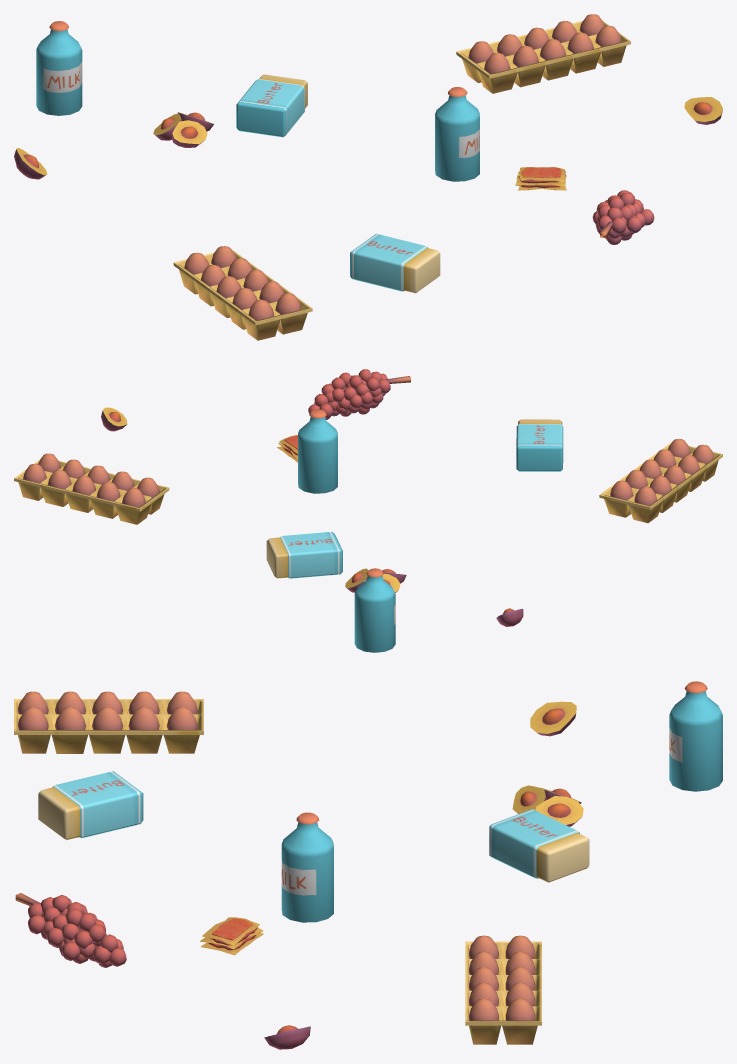
3 views of the same model, one above another, from view 1: azimuth 30°, elevation 25°; view 2: azimuth 150°, elevation 25°; view 3: azimuth 270°, elevation 25° (orthographic). The views are drawn at different scales.
Visible parts, largest first — view 1: Eggs2, Eggs 1, Butter2, polySurface6, polySurface7, Butter 1, Grapes, Lasagna, Avocado, Avocado4, Avocado2; view 2: Eggs2, Eggs 1, Butter 1, polySurface6, polySurface7, Grapes, Butter2, Avocado; view 3: Eggs 1, Eggs2, Butter2, Butter 1, polySurface6, polySurface7, Grapes, Lasagna, Avocado2, Avocado5, Avocado, Avocado4.
Boxes of the visible parts, x1=… form: Eggs2: x1=456, y1=14, x2=630, y2=93; Eggs 1: x1=173, y1=246, x2=312, y2=340; Butter2: x1=350, y1=233, x2=440, y2=293; polySurface6: x1=36, y1=21, x2=82, y2=115; polySurface7: x1=435, y1=87, x2=479, y2=181; Butter 1: x1=236, y1=74, x2=307, y2=137; Grapes: x1=592, y1=190, x2=654, y2=244; Lasagna: x1=515, y1=167, x2=566, y2=190; Avocado: x1=684, y1=97, x2=722, y2=124; Avocado4: x1=171, y1=120, x2=207, y2=147; Avocado2: x1=14, y1=148, x2=47, y2=179; Eggs2: x1=14, y1=453, x2=169, y2=524; Eggs 1: x1=599, y1=439, x2=722, y2=523; Butter 1: x1=266, y1=531, x2=342, y2=578; polySurface6: x1=354, y1=568, x2=395, y2=652; polySurface7: x1=298, y1=409, x2=337, y2=493; Grapes: x1=308, y1=369, x2=410, y2=419; Butter2: x1=516, y1=419, x2=563, y2=471; Avocado: x1=101, y1=407, x2=127, y2=431; Eggs 1: x1=14, y1=691, x2=203, y2=753; Eggs2: x1=465, y1=935, x2=541, y2=1044; Butter2: x1=38, y1=771, x2=143, y2=840; Butter 1: x1=489, y1=809, x2=589, y2=882; polySurface6: x1=669, y1=681, x2=722, y2=791; polySurface7: x1=281, y1=812, x2=333, y2=922; Grapes: x1=15, y1=893, x2=126, y2=967; Lasagna: x1=200, y1=917, x2=263, y2=955; Avocado2: x1=530, y1=701, x2=576, y2=736; Avocado5: x1=535, y1=796, x2=583, y2=826; Avocado: x1=264, y1=1025, x2=310, y2=1049; Avocado4: x1=512, y1=785, x2=546, y2=813.
Size of what is drawn, in the model's own units: 38.2 by 5.77 by 34.47.
